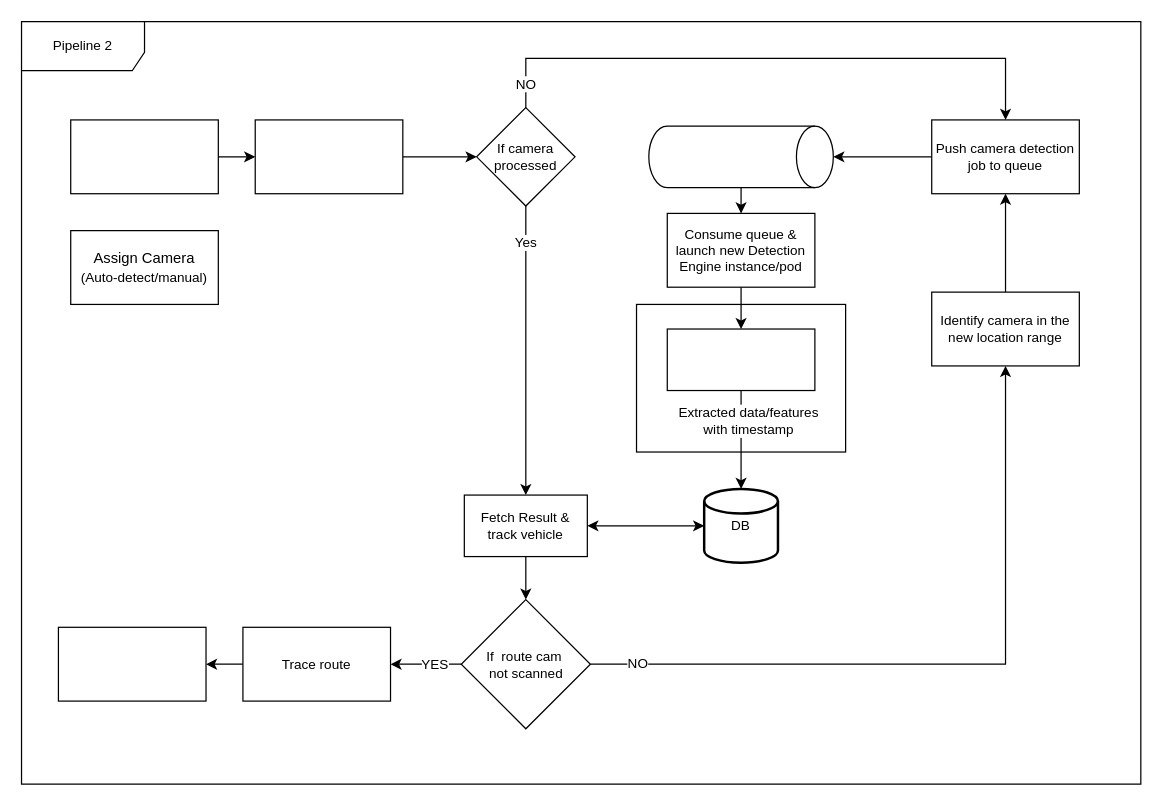
This 1162x806 diagram has some shape labels left out. Each missing label, with the centre of its shape:
"Display tracked route" goes at (131,663).
"Job Queue" goes at (740,156).
"Process Query" goes at (328,156).
"Run Detection Task" goes at (740,359).
"User queries description & time" goes at (143,156).
